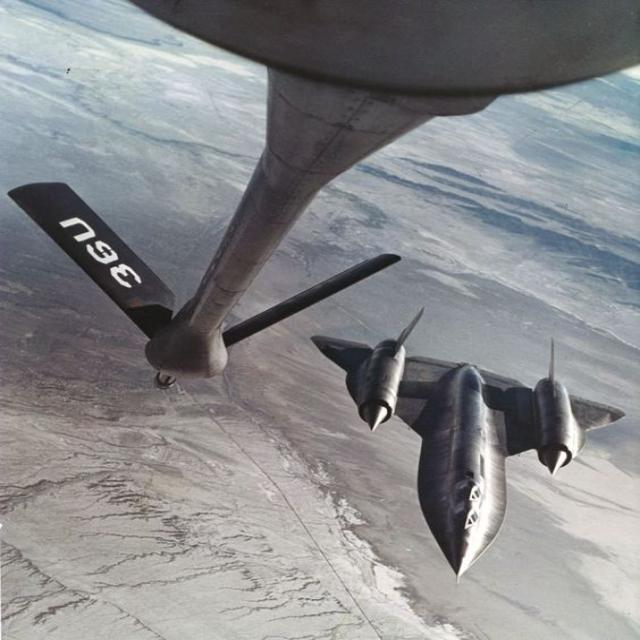MIL_Plane: (310, 303, 627, 585)
